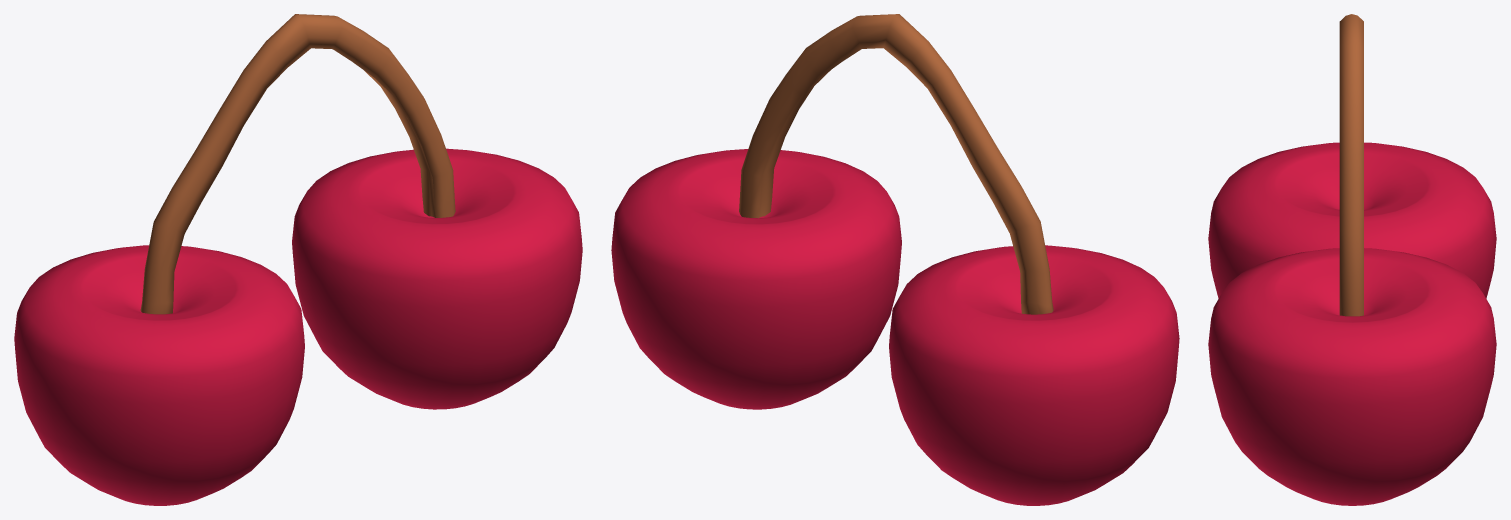
Rendered from Cherry.fbx.
The picture shows the model from 3 angles, left to right: view 1: azimuth 30°, elevation 25°; view 2: azimuth 150°, elevation 25°; view 3: azimuth 270°, elevation 25°; orthographic projection.
Visible parts, largest first — view 1: Sphere, Sphere.001, Cube; view 2: Sphere, Sphere.001, Cube; view 3: Sphere.001, Sphere, Cube.
Boxes of the visible parts, x1,y1,x2,y2 form: Sphere: (14,245,304,505); Sphere.001: (292,148,582,409); Cube: (140,14,455,314); Sphere: (889,245,1179,505); Sphere.001: (611,149,901,409); Cube: (739,14,1053,314); Sphere.001: (1208,248,1496,505); Sphere: (1208,142,1496,298); Cube: (1339,14,1363,316).
Bounding box in the file's own units: 420 × 336 × 200.
